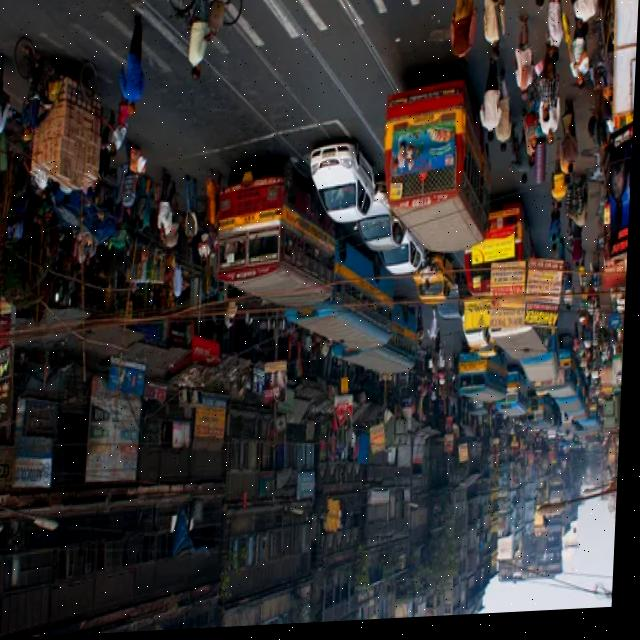plate: (323, 153, 339, 162)
